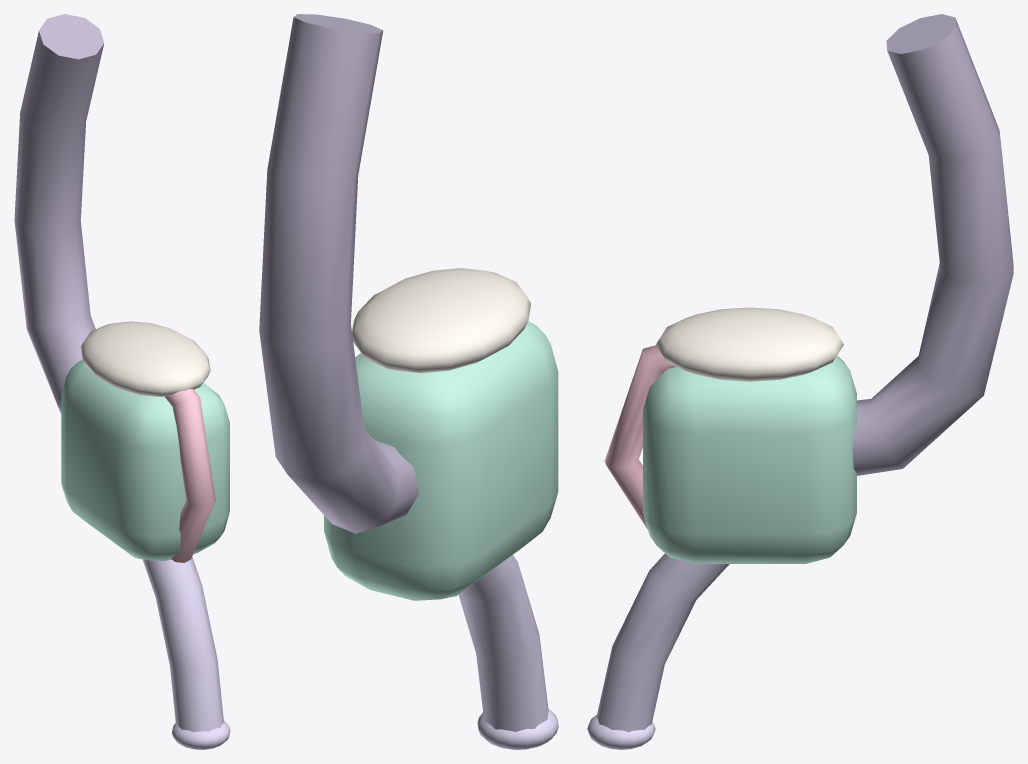
The model's file is Tool_FuelNozzle.fbx.
3 renders of one model, left to right at view 1: azimuth 30°, elevation 25°; view 2: azimuth 150°, elevation 25°; view 3: azimuth 270°, elevation 25°, orthographic. The views are drawn at different scales.
Visible parts, largest first — view 1: Tool_FuelNozzle; view 2: Tool_FuelNozzle; view 3: Tool_FuelNozzle.
Part boxes in pixels (left/top/right/bottom): Tool_FuelNozzle: left=14, top=14, right=230, bottom=749; Tool_FuelNozzle: left=259, top=14, right=558, bottom=749; Tool_FuelNozzle: left=587, top=14, right=1013, bottom=749.
Size of the model in its own units: 0.034 by 0.1859 by 0.0996.
